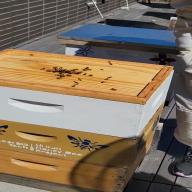Bee: (100, 73, 117, 81), (106, 87, 120, 92)
